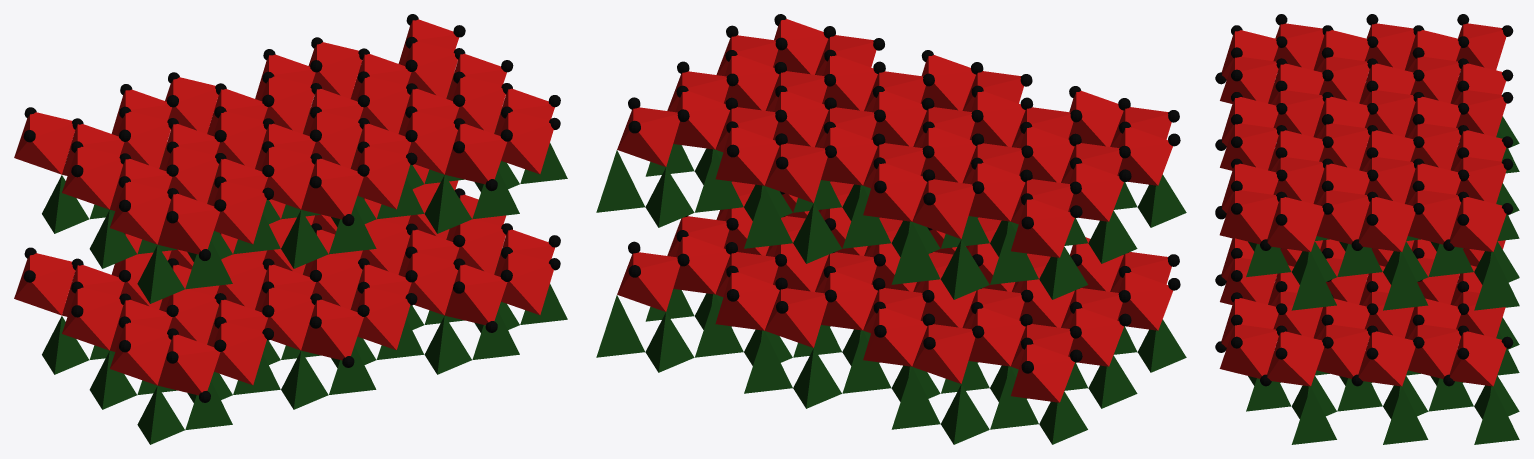
The model's file is Caulinita.obj.
3 renders of one model, left to right at view 1: azimuth 30°, elevation 25°; view 2: azimuth 150°, elevation 25°; view 3: azimuth 270°, elevation 25°, orthographic. The views are drawn at different scales.
Parts seen in each view (by area): view 1: Folha_Gibbsita.001_Solid.608, Folha_Gibbsita_Solid.602, Folha_tetraedrica_Gb.001_Solid.609, Folha_tetraedrica_Gb_Solid.607, Folha_hidroxila_2_Sphere.041, Folha_hidroxila_1_Sphere.039; view 2: Folha_Gibbsita.001_Solid.608, Folha_Gibbsita_Solid.602, Folha_tetraedrica_Gb_Solid.607, Folha_tetraedrica_Gb.001_Solid.609, Folha_hidroxila_2_Sphere.041, Folha_hidroxila_1_Sphere.039; view 3: Folha_Gibbsita.001_Solid.608, Folha_Gibbsita_Solid.602, Folha_tetraedrica_Gb.001_Solid.609, Folha_tetraedrica_Gb_Solid.607, Folha_hidroxila_2_Sphere.041, Folha_hidroxila_1_Sphere.039, Folha_hidroxila_base_cima_Sphere.038, Folha_hidroxila_base_baixo_Sphere.037.
Part boxes in pixels (box(x1,y1,x2,y2)): Folha_Gibbsita.001_Solid.608: box(14, 19, 554, 254); Folha_Gibbsita_Solid.602: box(14, 164, 555, 395); Folha_tetraedrica_Gb.001_Solid.609: box(42, 75, 567, 303); Folha_tetraedrica_Gb_Solid.607: box(42, 229, 567, 444); Folha_hidroxila_2_Sphere.041: box(23, 14, 560, 223); Folha_hidroxila_1_Sphere.039: box(23, 188, 560, 363); Folha_Gibbsita.001_Solid.608: box(617, 19, 1172, 257); Folha_Gibbsita_Solid.602: box(617, 181, 1173, 402); Folha_tetraedrica_Gb_Solid.607: box(596, 289, 1186, 444); Folha_tetraedrica_Gb.001_Solid.609: box(596, 144, 1186, 299); Folha_hidroxila_2_Sphere.041: box(628, 14, 1180, 229); Folha_hidroxila_1_Sphere.039: box(628, 191, 1180, 373); Folha_Gibbsita.001_Solid.608: box(1219, 23, 1506, 251); Folha_Gibbsita_Solid.602: box(1219, 174, 1506, 386); Folha_tetraedrica_Gb.001_Solid.609: box(1246, 116, 1519, 310); Folha_tetraedrica_Gb_Solid.607: box(1246, 277, 1519, 444); Folha_hidroxila_2_Sphere.041: box(1231, 14, 1513, 225); Folha_hidroxila_1_Sphere.039: box(1231, 248, 1513, 359); Folha_hidroxila_base_cima_Sphere.038: box(1215, 72, 1454, 250); Folha_hidroxila_base_baixo_Sphere.037: box(1215, 213, 1454, 386).
Bounding box in the file's own units: 1.34 × 0.6574 × 0.8174.
